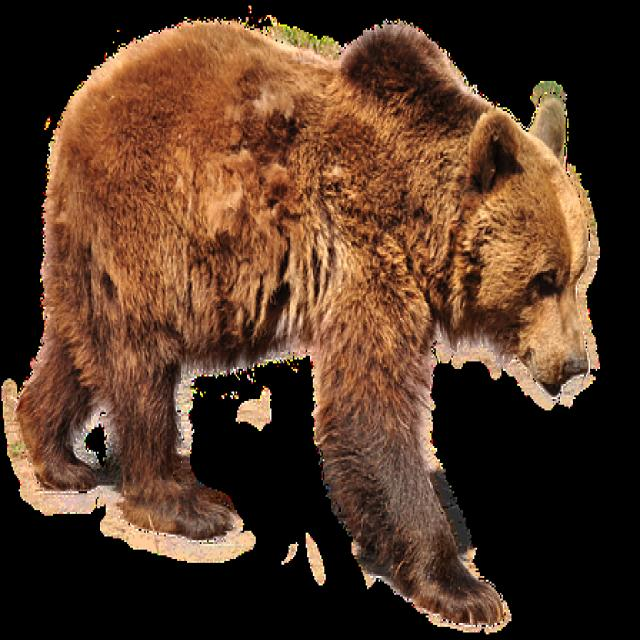Bear: (16, 21, 601, 638)
